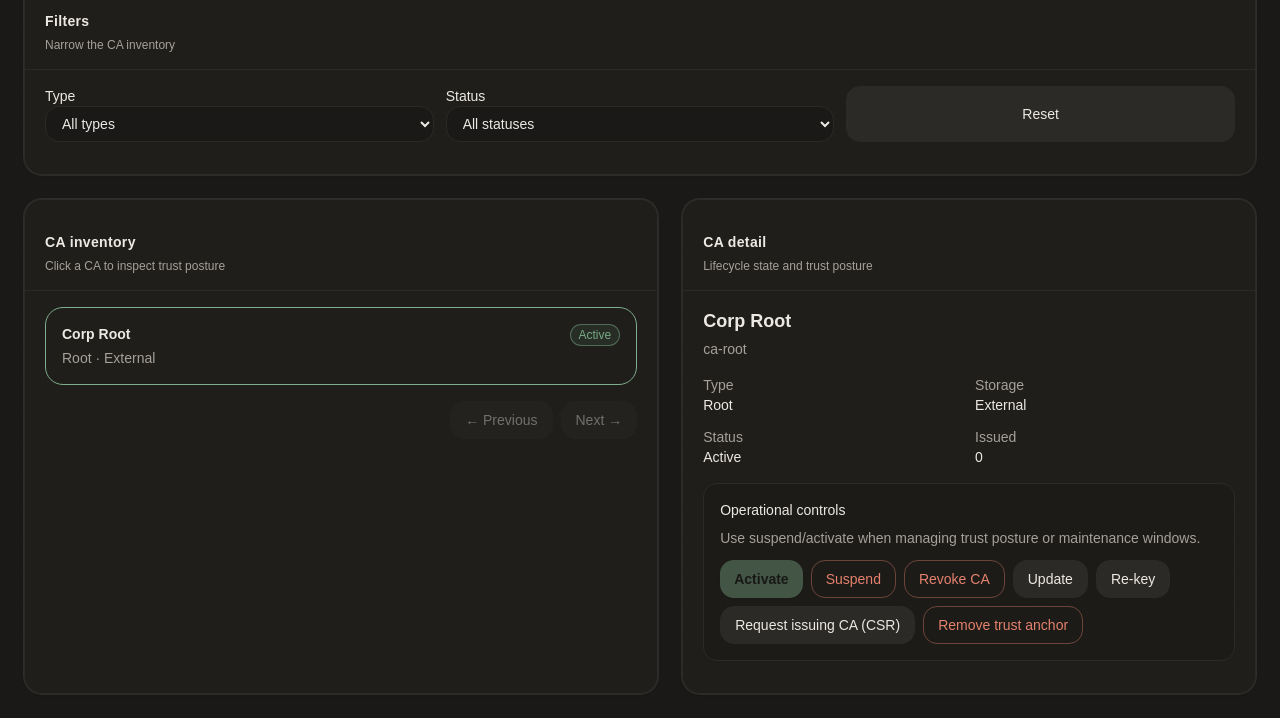
Test: CAs offline-root workflow (W23-05) › trust anchor removal shows 202 pending state and link
(page scrolled)
Click the button "Remove trust anchor" at {"x": 1003, "y": 624}, box top-left (923, 606), bottom-right (1083, 644)
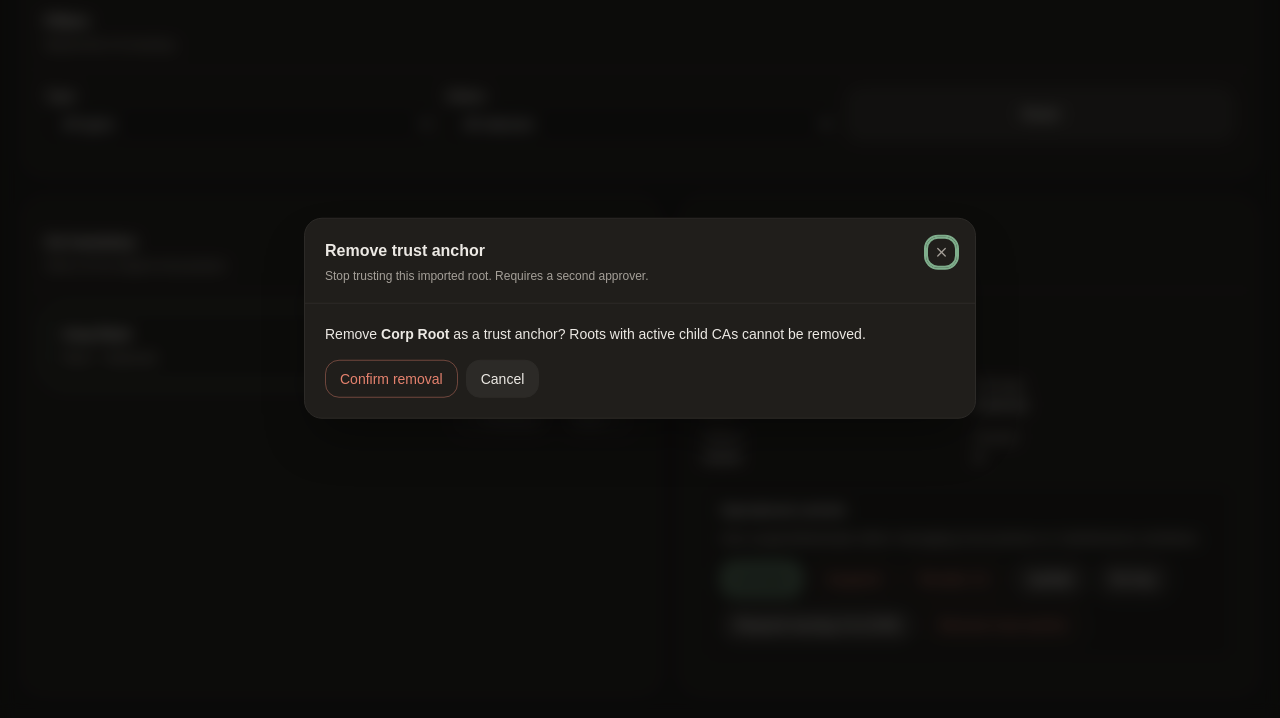
Click the button "Confirm removal" at {"x": 391, "y": 378}, box top-left (325, 359), bottom-right (458, 397)
(page scrolled)
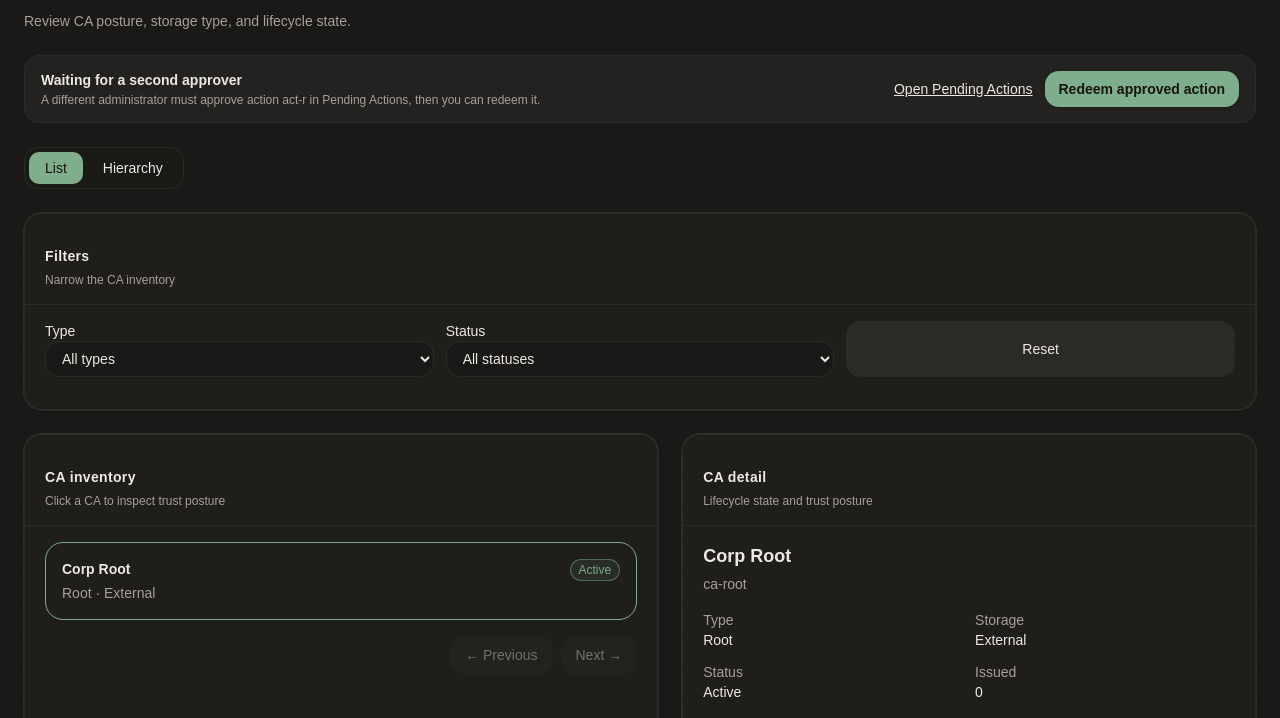
Expected: the text "Waiting for a second approver" is shown, top-left (41, 72), bottom-right (242, 88)
